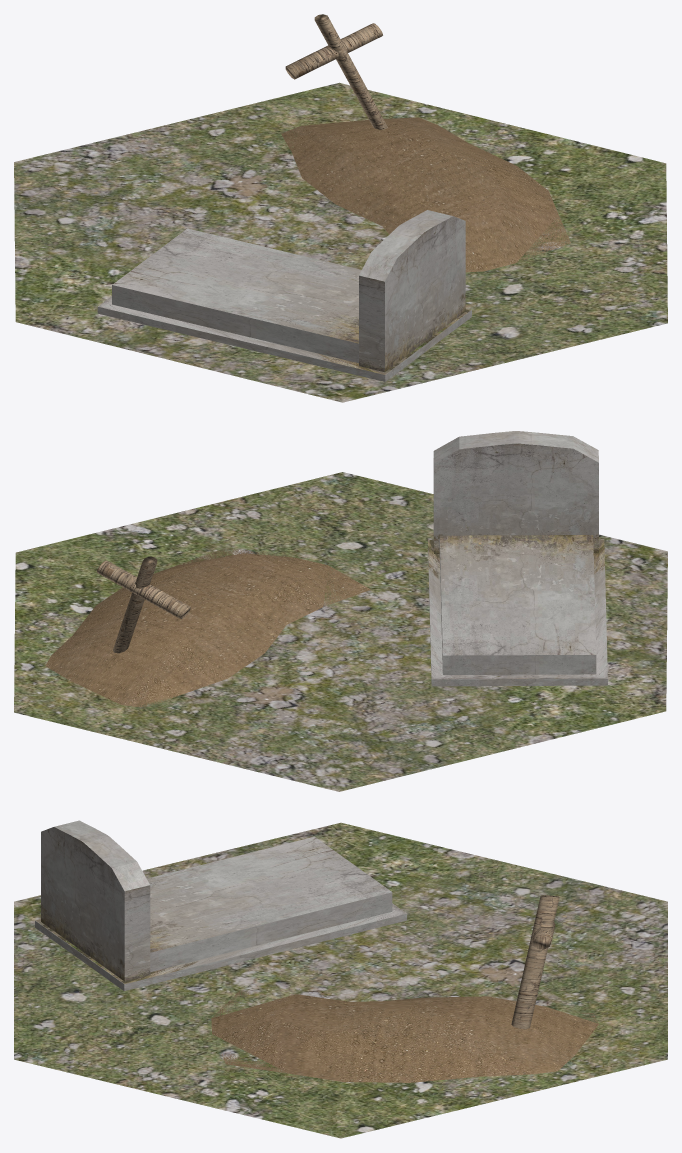
File: graveyard_GEO_01.fbx
3 views of the same model, one above another, from view 1: azimuth 30°, elevation 25°; view 2: azimuth 150°, elevation 25°; view 3: azimuth 270°, elevation 25° (orthographic).
Parts seen in each view (by area): view 1: graveyard_GEO_01; view 2: graveyard_GEO_01; view 3: graveyard_GEO_01.
Part boxes in pixels (<box>): graveyard_GEO_01: <box>14,14,667,402</box>; graveyard_GEO_01: <box>14,431,667,791</box>; graveyard_GEO_01: <box>14,820,667,1138</box>.
Size of the model in its own units: 2 by 0.3762 by 1.75.
Materials: 4 (4 with a texture image).
